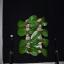leaf: (31, 30, 40, 40), (26, 15, 37, 23), (28, 48, 38, 56), (19, 39, 28, 47), (29, 22, 40, 28), (18, 21, 26, 29), (19, 46, 27, 54), (18, 30, 28, 36), (30, 44, 40, 50), (30, 39, 41, 44), (42, 38, 48, 46), (40, 30, 48, 36), (41, 49, 47, 56), (40, 16, 46, 23), (40, 29, 48, 34), (28, 28, 38, 32), (36, 36, 42, 41), (41, 22, 48, 26), (28, 48, 32, 52), (42, 39, 46, 43)
